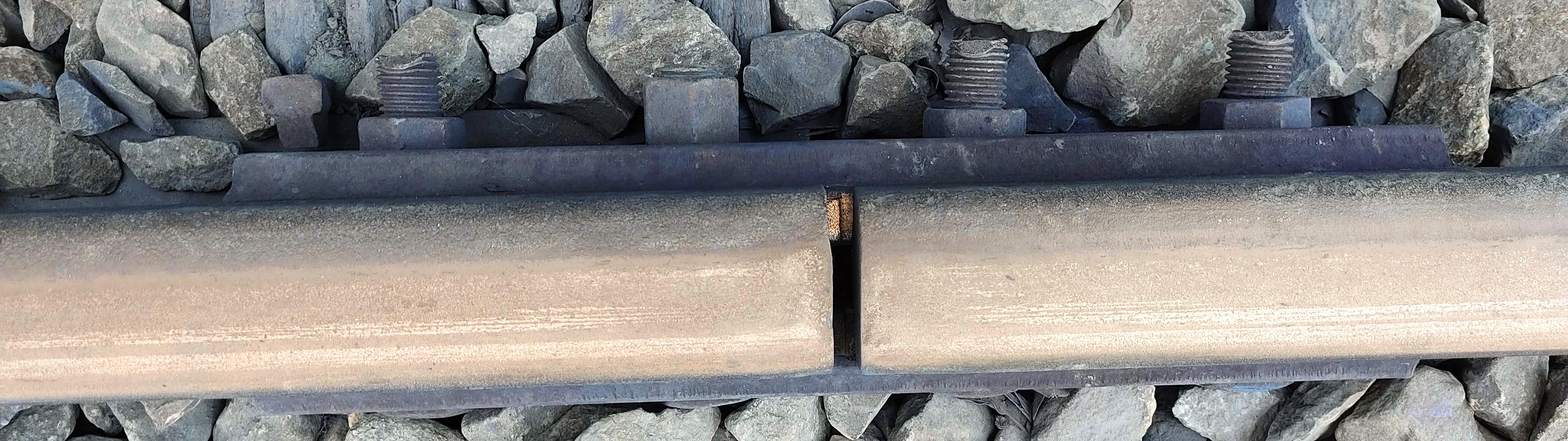duan lie: (808, 157, 904, 403)
